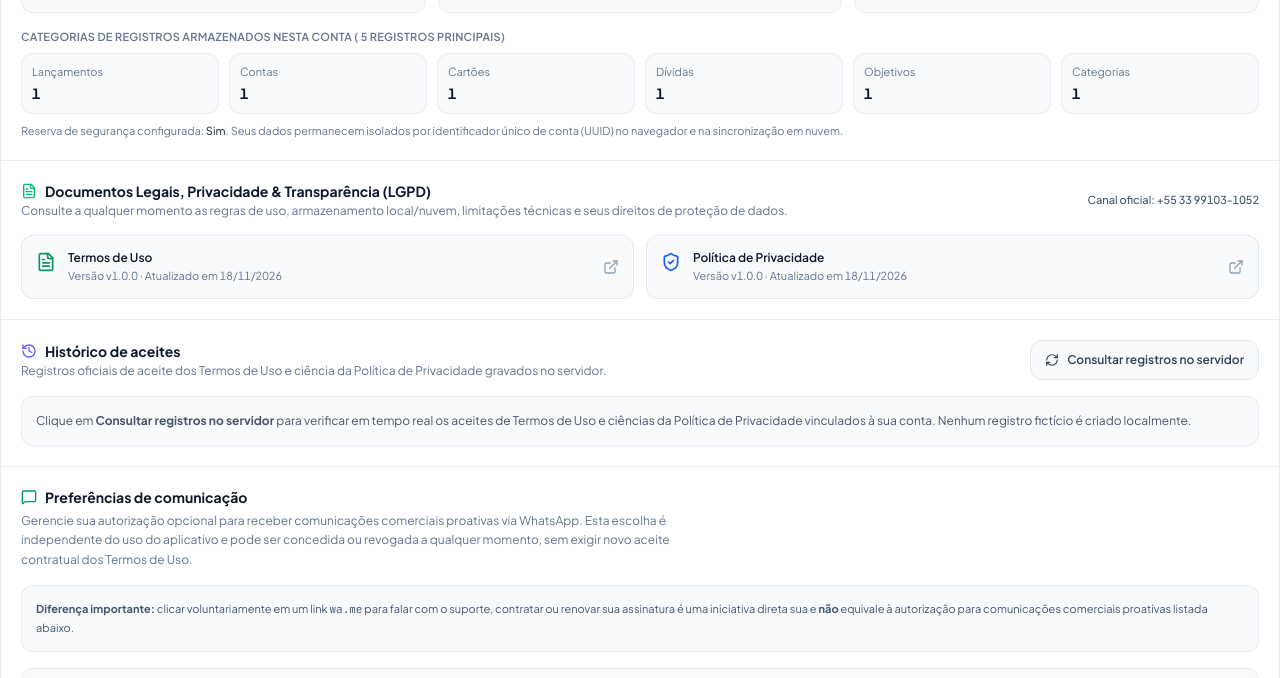
Test: Fase 2.5 — Central de Privacidade, Direitos do Titular e Transparência › 3. Histórico de aceites exibe registros reais do servidor e trata schema_missing sem criar aceite fictício
(page scrolled)
expect the element with test id "privacy-acceptance-idle" is shown: met, box x1=21 y1=396 x2=1259 y2=446
Click the button with test id "privacy-refresh-history-btn". click: [1145, 360]
box: x1=1030 y1=340 x2=1259 y2=380
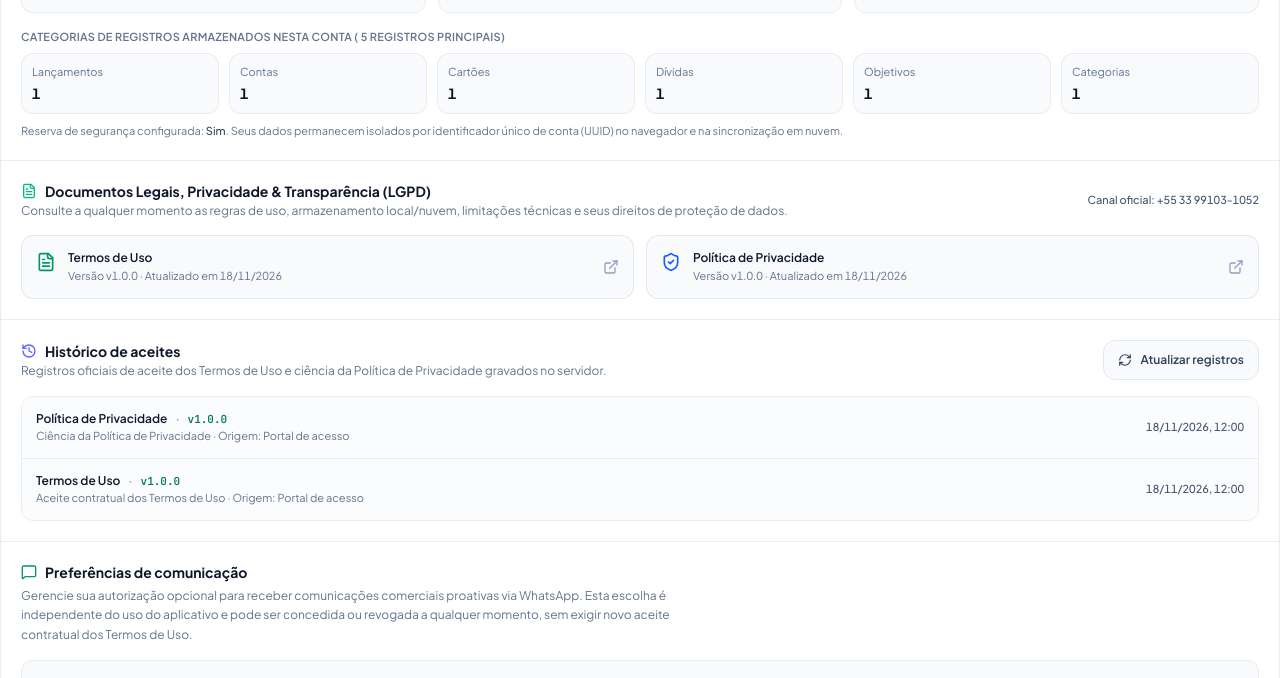
expect the element with test id "privacy-acceptance-idle" shows "Aceite contratual dos Termos de Uso": met, box x1=36 y1=491 x2=226 y2=504
expect the element with test id "privacy-acceptance-idle" shows "Ciência da Política de Privacidade": met, box x1=36 y1=429 x2=211 y2=442
expect the element with test id "privacy-acceptance-idle" shows "v1.0.0": met, box x1=21 y1=396 x2=1259 y2=521
Click the button with test id "privacy-refresh-history-btn". click: [1181, 360]
box: x1=1104 y1=340 x2=1259 y2=380
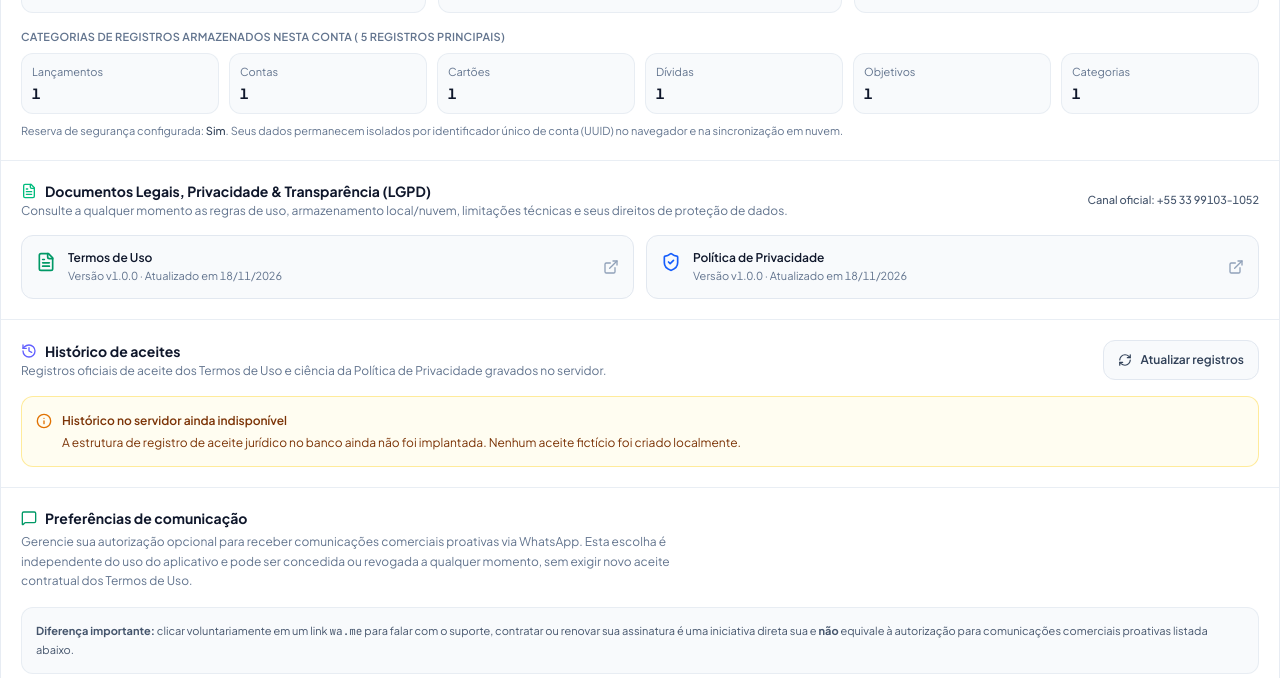
expect the element with test id "privacy-acceptance-idle" is shown: met, box x1=21 y1=396 x2=1259 y2=467
expect the element with test id "privacy-acceptance-idle" shows "Nenhum aceite fictício foi criado": met, box x1=489 y1=435 x2=741 y2=450
